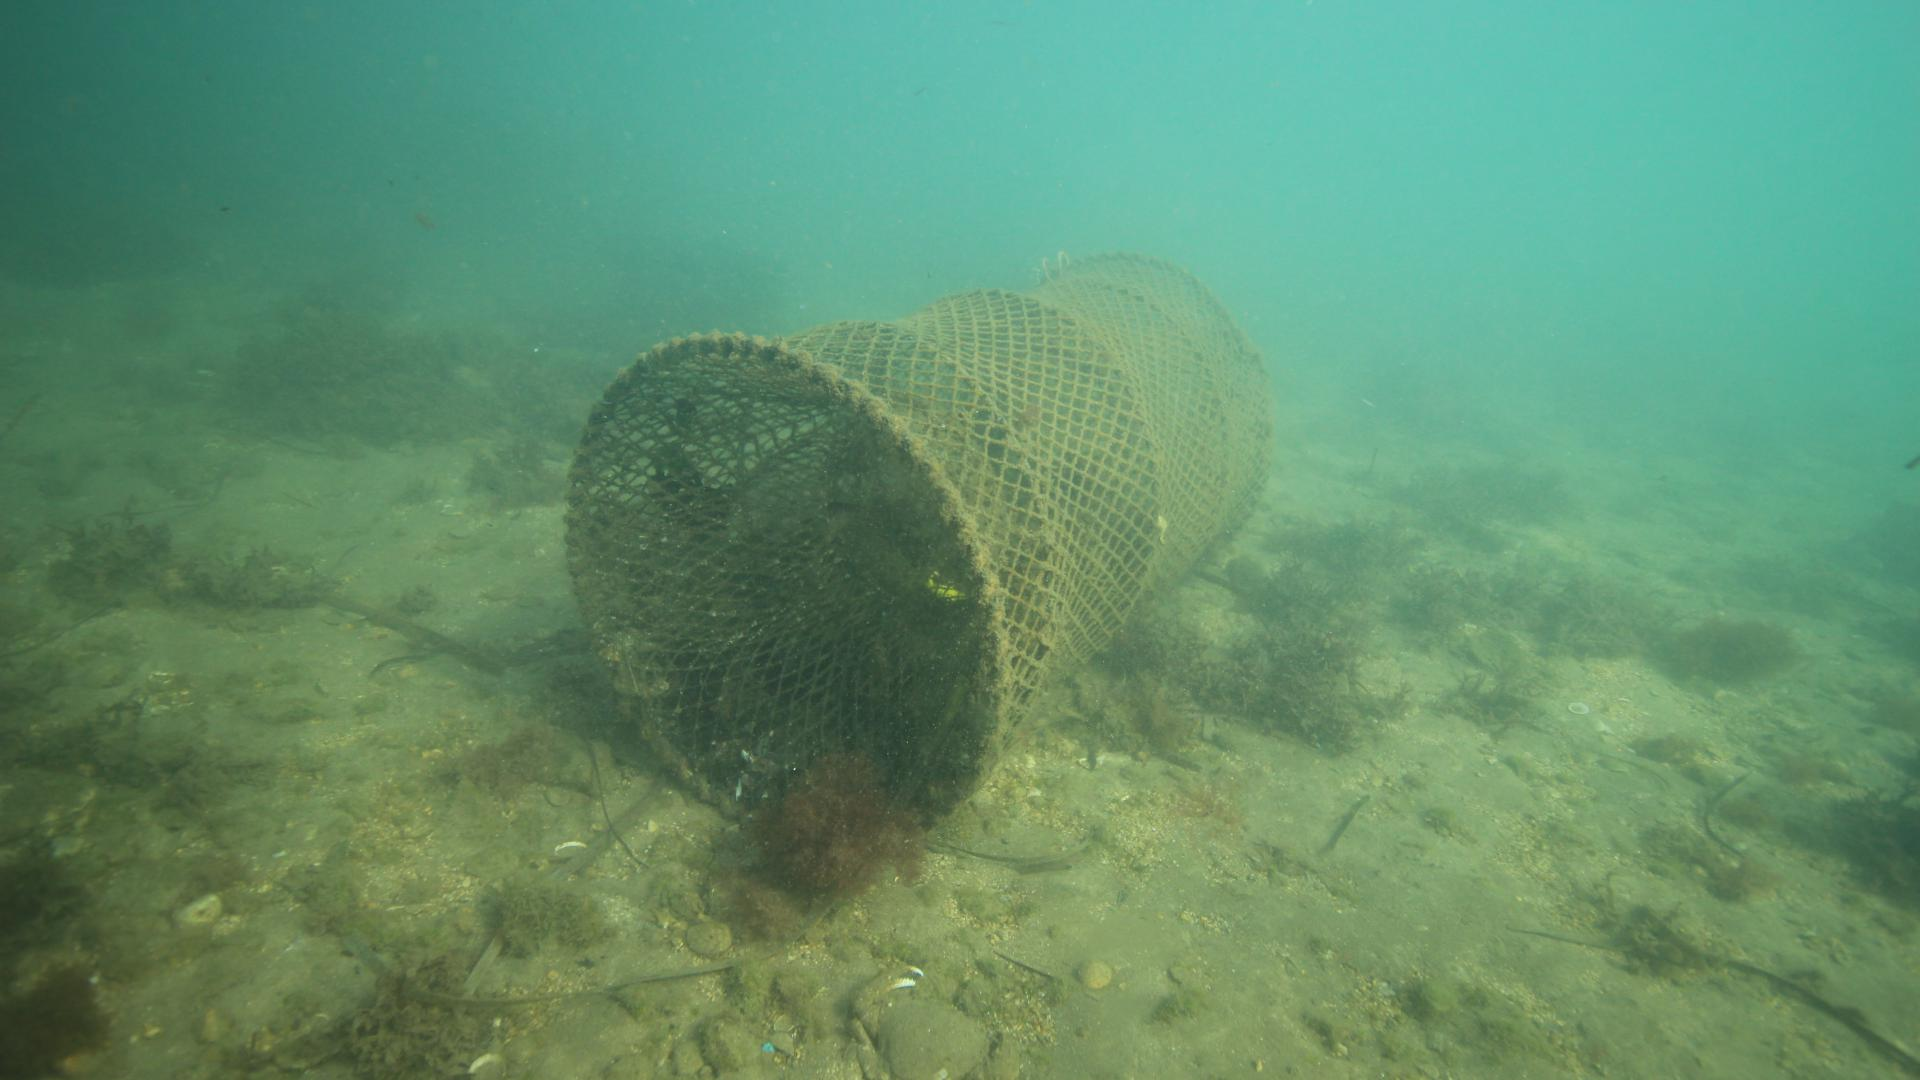spring fish trap: (563, 248, 1273, 833)
